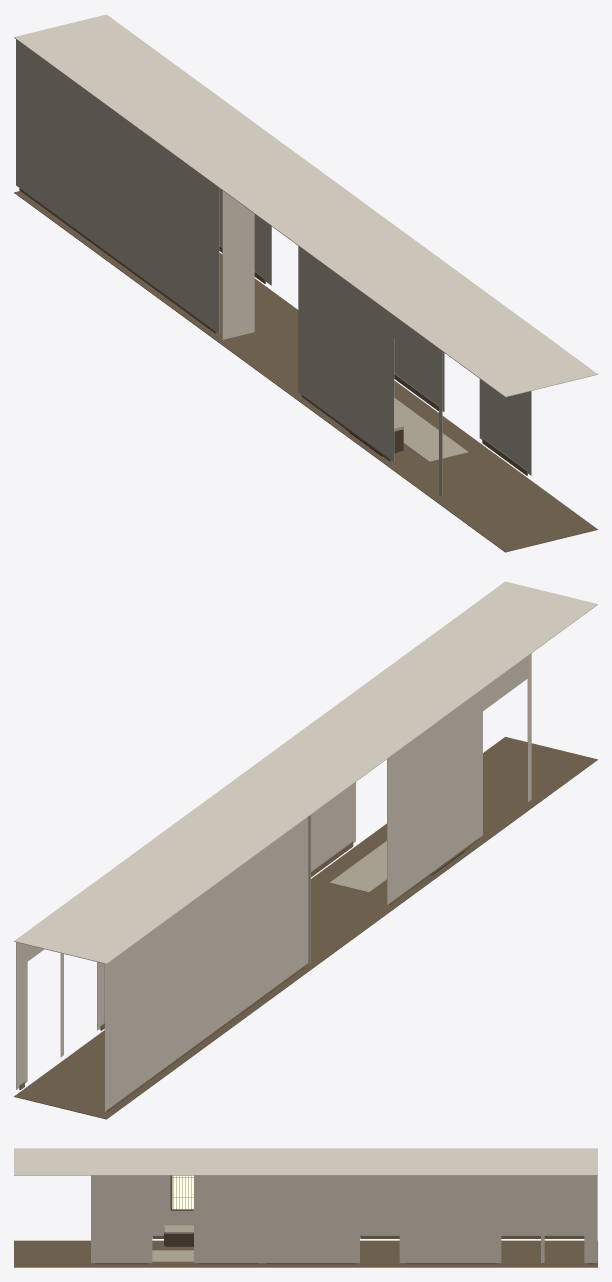
The model's file is corridor-2.glb.
The picture shows the model from 3 angles, top to bottom: view 1: azimuth 30°, elevation 25°; view 2: azimuth 150°, elevation 25°; view 3: azimuth 270°, elevation 25°; orthographic projection. The views are drawn at different scales.
Visible parts, largest first — view 1: DESIGN | Entrance coordinated ceiling, DESIGN | Entrance paired wall finish, DESIGN | Entrance floor finish, DESIGN | Entrance paired wall finish.003, DESIGN | Arch approach finish, DESIGN | Entrance paired wall finish.013, DESIGN | Entrance quiet runner, DESIGN | Entrance paired wall finish.012, DESIGN | Entrance paired wall finish.006, DESIGN | Entrance paired wall finish.002; view 2: DESIGN | Entrance coordinated ceiling, DESIGN | Entrance paired wall finish, DESIGN | Entrance floor finish, DESIGN | Entrance paired wall finish.003, DESIGN | Entrance paired wall finish.012, DESIGN | Entrance paired wall finish.005, DESIGN | Entrance quiet runner, DESIGN | Entrance paired wall finish.002, DESIGN | Entrance paired wall finish.001; view 3: DESIGN | Entrance coordinated ceiling, DESIGN | Entrance paired wall finish.006, DESIGN | Entrance paired wall finish.009, DESIGN | Entrance floor finish, DESIGN | Entrance paired wall finish.012, DESIGN | Entrance paired wall finish, DESIGN | Entrance paired wall finish.013, DESIGN | Entrance paired wall finish.003, DESIGN | Entrance paired wall finish.005, DESIGN | Kumiko opal diffuser, DESIGN | Entrance paired wall finish.007, DESIGN | Entrance paired wall finish.010 (+8 smaller).
Boxes of the visible parts, x1,y1,x2,y2 form: DESIGN | Entrance coordinated ceiling: (14, 14, 597, 397); DESIGN | Entrance paired wall finish: (16, 39, 219, 333); DESIGN | Entrance floor finish: (14, 191, 597, 552); DESIGN | Entrance paired wall finish.003: (298, 246, 394, 461); DESIGN | Arch approach finish: (222, 190, 254, 339); DESIGN | Entrance paired wall finish.013: (479, 379, 531, 475); DESIGN | Entrance quiet runner: (394, 398, 468, 461); DESIGN | Entrance paired wall finish.012: (394, 339, 444, 411); DESIGN | Entrance paired wall finish.006: (219, 188, 268, 283); DESIGN | Entrance paired wall finish.002: (394, 316, 438, 370); DESIGN | Entrance coordinated ceiling: (14, 581, 597, 964); DESIGN | Entrance paired wall finish: (104, 817, 308, 1111); DESIGN | Entrance floor finish: (14, 737, 597, 1119); DESIGN | Entrance paired wall finish.003: (387, 689, 482, 904); DESIGN | Entrance paired wall finish.012: (311, 782, 355, 871); DESIGN | Entrance paired wall finish.005: (16, 942, 27, 1089); DESIGN | Entrance quiet runner: (329, 841, 386, 892); DESIGN | Entrance paired wall finish.002: (483, 656, 527, 710); DESIGN | Entrance paired wall finish.001: (527, 653, 531, 801); DESIGN | Entrance coordinated ceiling: (14, 1148, 597, 1175); DESIGN | Entrance paired wall finish.006: (402, 1175, 501, 1262); DESIGN | Entrance paired wall finish.009: (262, 1175, 359, 1262); DESIGN | Entrance floor finish: (14, 1240, 597, 1267); DESIGN | Entrance paired wall finish.012: (194, 1175, 262, 1262); DESIGN | Entrance paired wall finish: (360, 1176, 584, 1236); DESIGN | Entrance paired wall finish.013: (91, 1175, 152, 1262); DESIGN | Entrance paired wall finish.003: (152, 1175, 193, 1236); DESIGN | Entrance paired wall finish.005: (584, 1175, 597, 1262); DESIGN | Kumiko opal diffuser: (172, 1175, 193, 1209); DESIGN | Entrance paired wall finish.007: (501, 1175, 540, 1191); DESIGN | Entrance paired wall finish.010: (360, 1175, 399, 1191).
Size of the model in its own units: 1.7 by 2.73 by 15.61.
